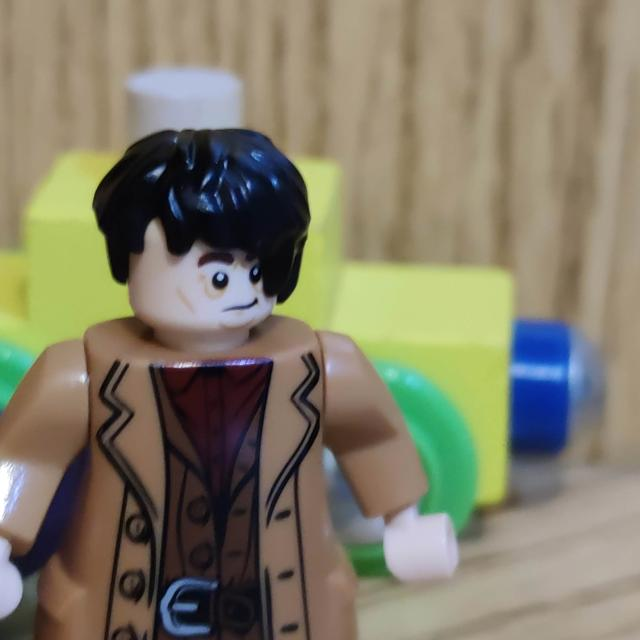lego: (2, 126, 459, 640)
